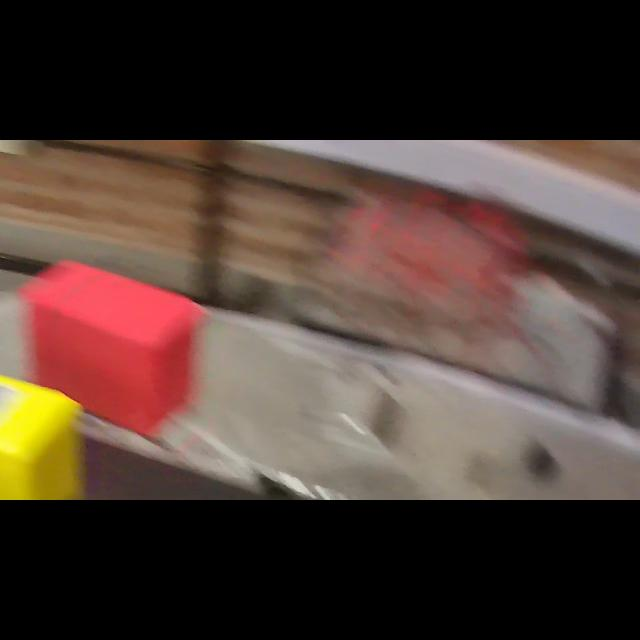redBox: (16, 255, 208, 440)
yellowBox: (0, 348, 92, 499)
